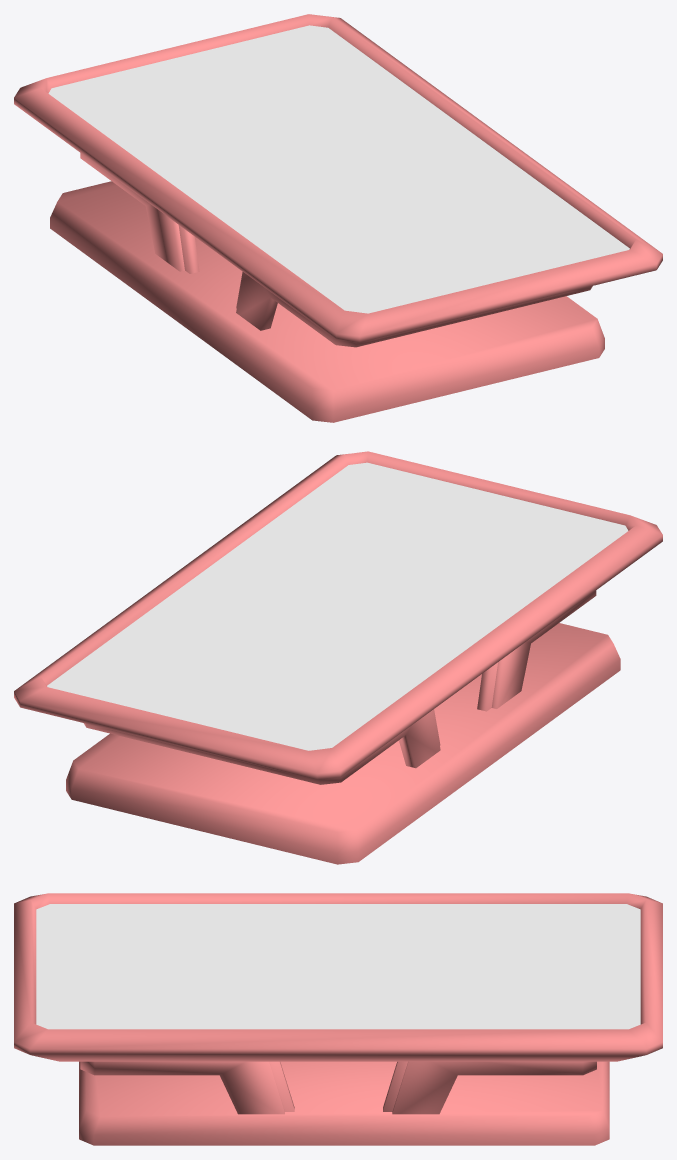
The model's file is Table.fbx.
3 views of the same model, one above another, from view 1: azimuth 30°, elevation 25°; view 2: azimuth 150°, elevation 25°; view 3: azimuth 270°, elevation 25° (orthographic). The views are drawn at different scales.
Visible parts, largest first — view 1: Table top, Table; view 2: Table top, Table; view 3: Table, Table top.
Boxes of the visible parts, x1,y1,x2,y2 form: Table top: [48, 25, 629, 313]; Table: [14, 14, 662, 422]; Table top: [47, 462, 628, 750]; Table: [14, 451, 662, 864]; Table: [14, 893, 662, 1145]; Table top: [36, 904, 640, 1029].
Bounding box in the file's own units: 197 × 72.14 × 354.
